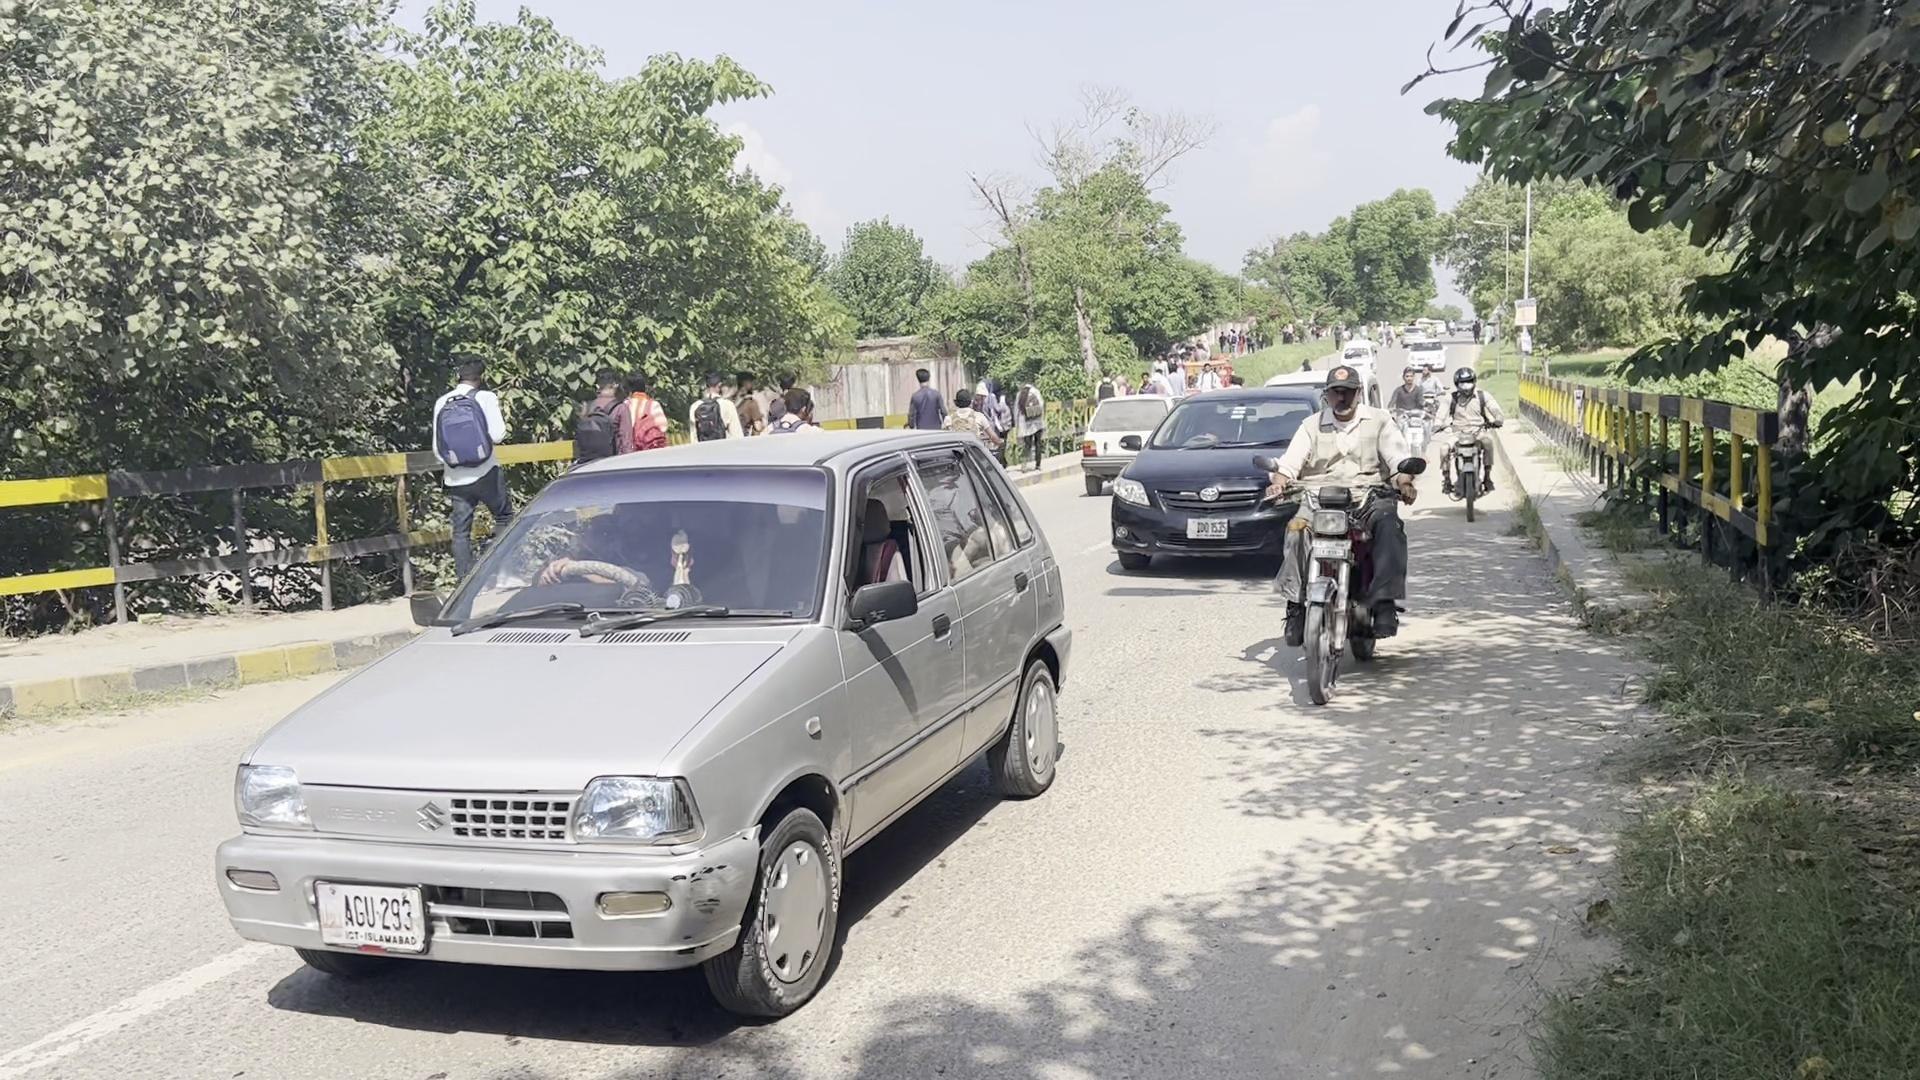windshield: (438, 450, 833, 633)
